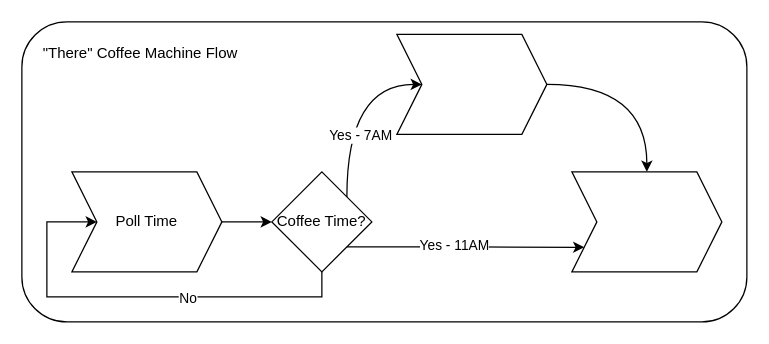
Some shapes in this 769 by 344 pixel diagram are drawn without their labels. The box of each missing label's shape, as (x1, y1, x2, y2) in pixels:
Coffee Machine Enable: (571, 171, 722, 272)
Wakeup Alarm: (396, 33, 547, 134)
